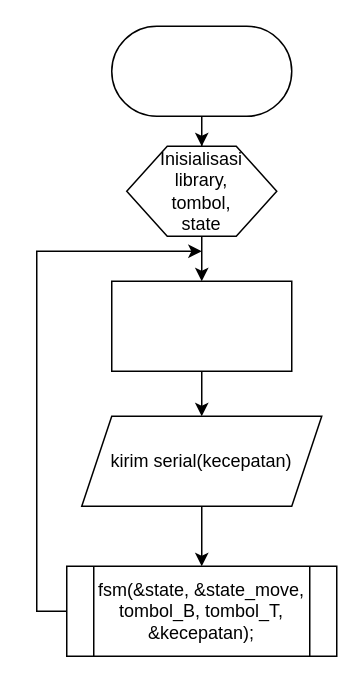
This 363x683 diagram has some shape labels left out. The box of each missing label's shape, as (x1, y1, x2, y2) in pixels:
Baca tombol buka Baca tombol tutup: (110, 280, 292, 371)
Mulai: (110, 25, 292, 116)
